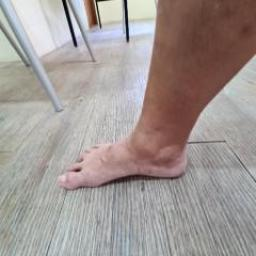Medial View -Right Foot-: (40, 104, 216, 202)
